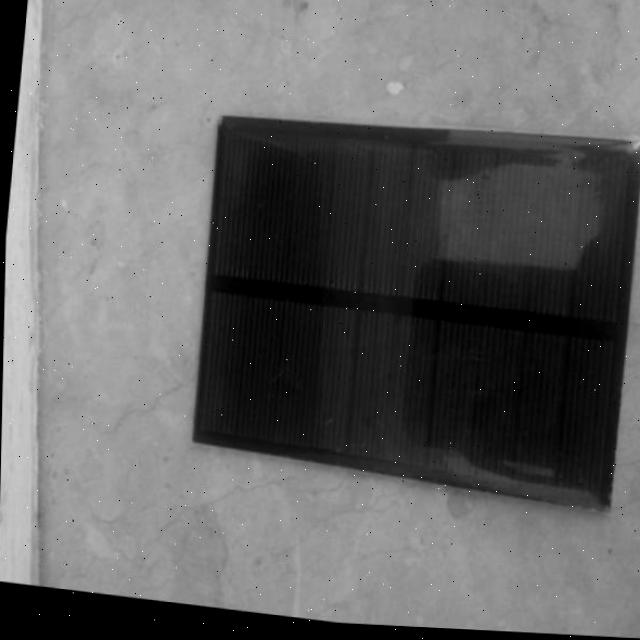Normal Solar Panel: (190, 98, 640, 512)
